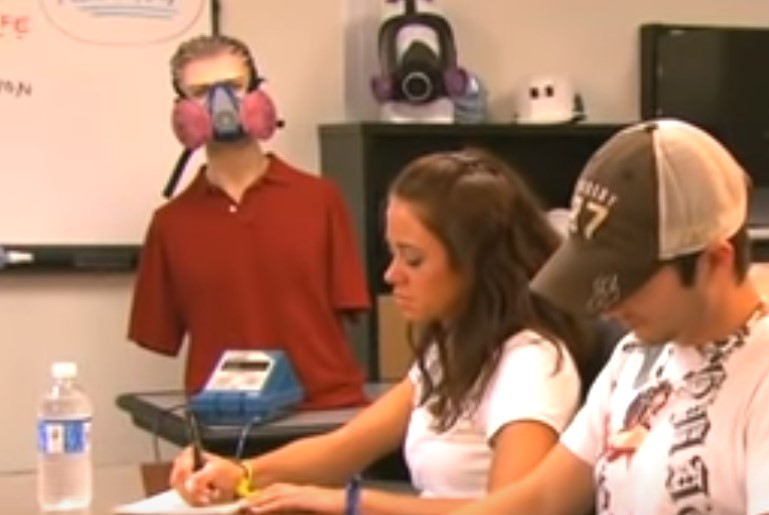face_no_mask: (376, 154, 514, 332)
